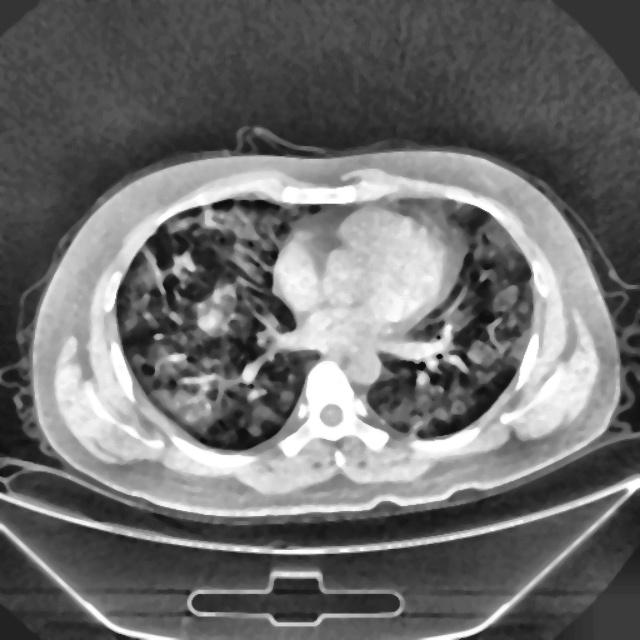covid: (29, 138, 621, 522)
